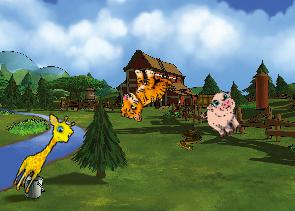giraffe: (9, 108, 79, 201)
pig: (196, 87, 250, 142)
tiger: (116, 63, 174, 127)
